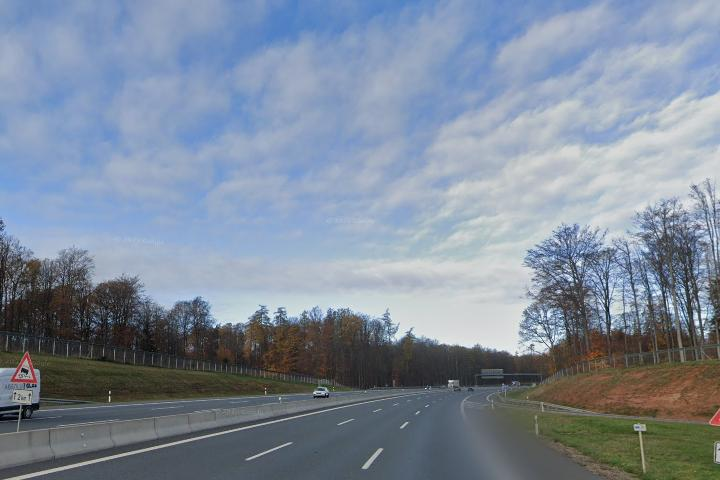traffic_sign: (9, 351, 38, 386)
vehicle: (310, 385, 330, 398)
